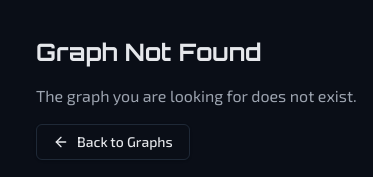
Scenario: GraphDetailPage › navigates back to list on back button click
Check: the heading "Graph Not Found" is shown, box [36,37,262,67]
Click the button "Back to Graphs": (113, 142) [36,124,190,160]
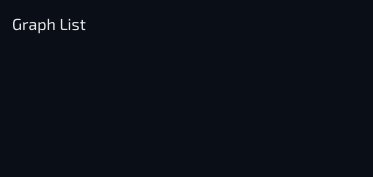
Check: the text "Graph List" is shown, box [12,14,86,33]
